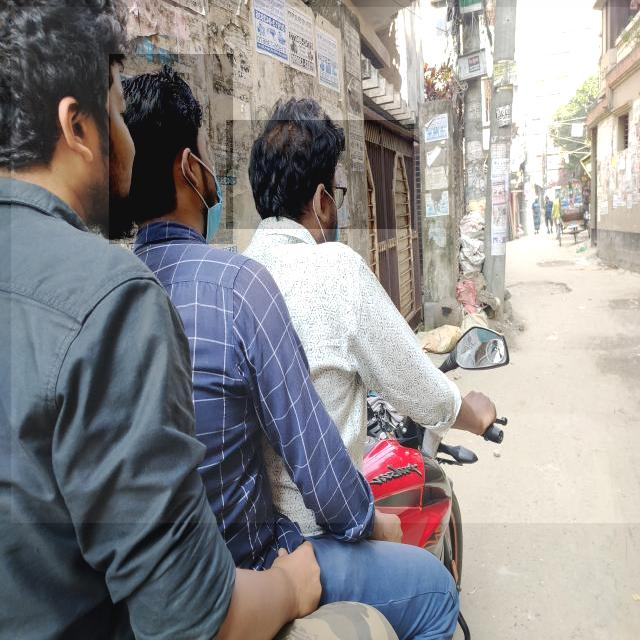No_Helmet: (109, 55, 233, 245), (226, 121, 414, 230)
Overloading: (11, 8, 640, 524)
